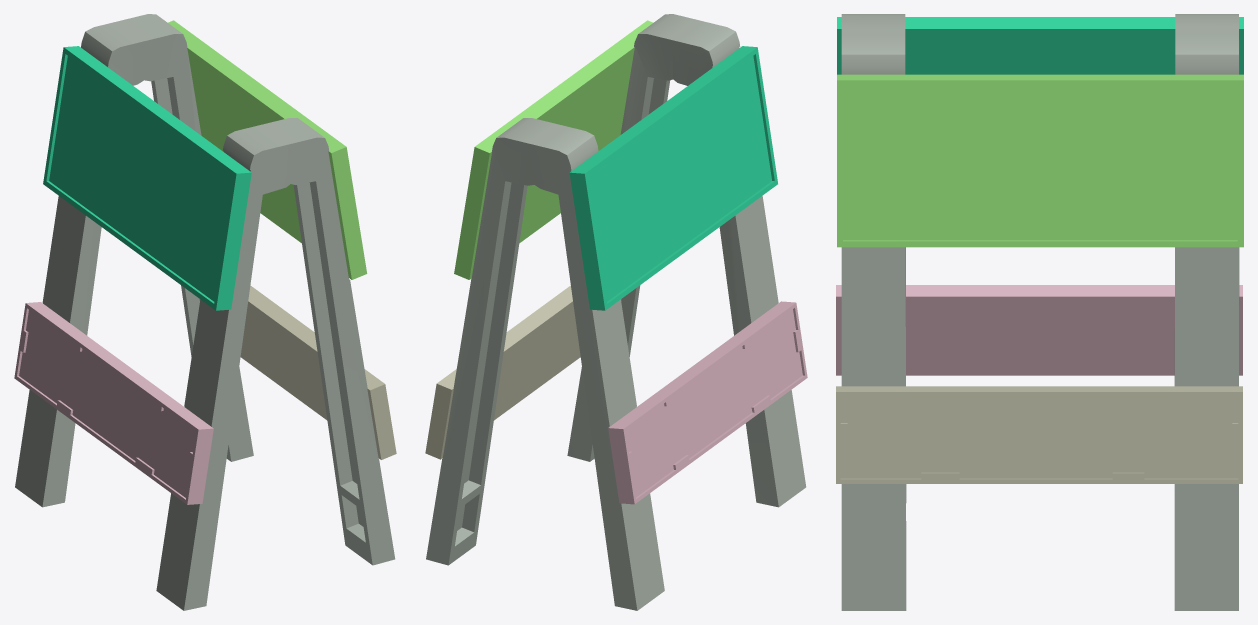
3 views of the same model, side by side, from view 1: azimuth 30°, elevation 25°; view 2: azimuth 150°, elevation 25°; view 3: azimuth 270°, elevation 25° (orthographic). The views are drawn at different scales.
Parts seen in each view (by area): view 1: split_parent_3, defaultMaterial.001, defaultMaterial.009, defaultMaterial.002, defaultMaterial; view 2: split_parent_3, defaultMaterial.001, defaultMaterial.009, defaultMaterial.002, defaultMaterial; view 3: defaultMaterial.002, split_parent_3, defaultMaterial, defaultMaterial.009, defaultMaterial.001.
Part boxes in pixels (x1,y1,x2,y2): split_parent_3: (15,14,395,610); defaultMaterial.001: (43,46,251,310); defaultMaterial.009: (14,302,213,504); defaultMaterial.002: (168,20,367,279); defaultMaterial: (240,285,396,459); split_parent_3: (426,14,806,610); defaultMaterial.001: (569,46,777,310); defaultMaterial.009: (608,301,807,504); defaultMaterial.002: (454,20,652,279); defaultMaterial: (425,285,580,459); defaultMaterial.002: (837,74,1243,247); split_parent_3: (841,14,1239,610); defaultMaterial: (836,386,1242,483); defaultMaterial.009: (836,285,1242,375); defaultMaterial.001: (837,17,1243,74).
Bounding box in the file's own units: 0.5012 × 1 × 0.7115.
